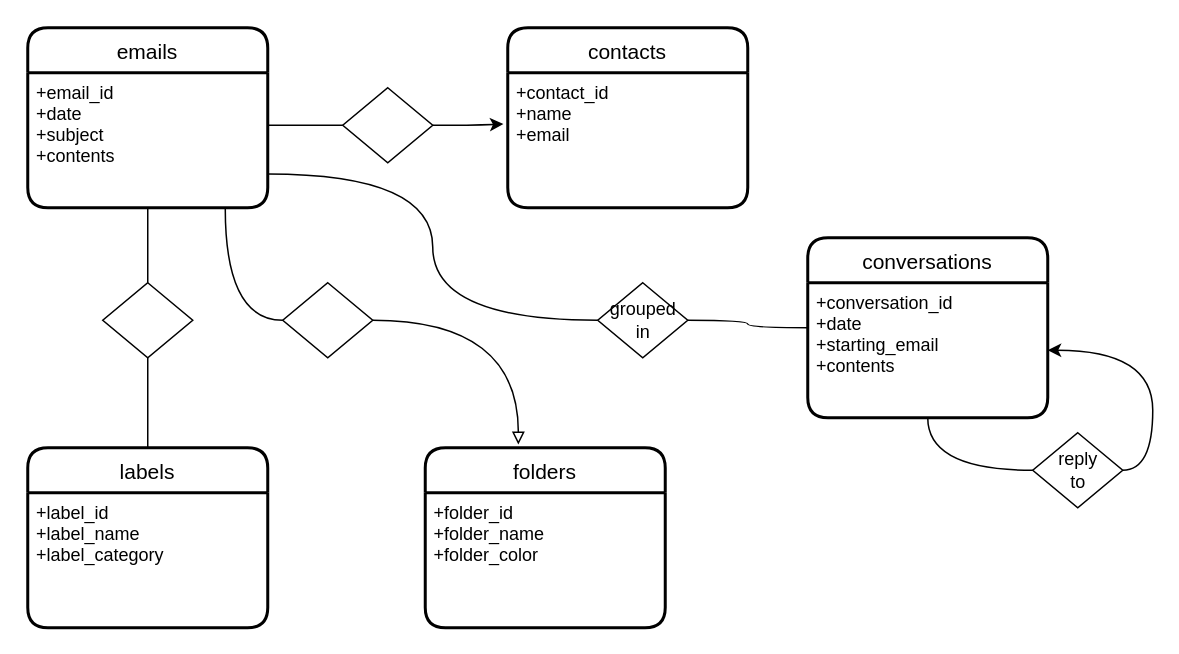
This 1179x654 diagram has some shape labels left out. Each missing label, with the centre of its shape:
"assigned to" goes at (x=147, y=319).
"contain" goes at (x=327, y=319).
"created by" goes at (x=387, y=124).
